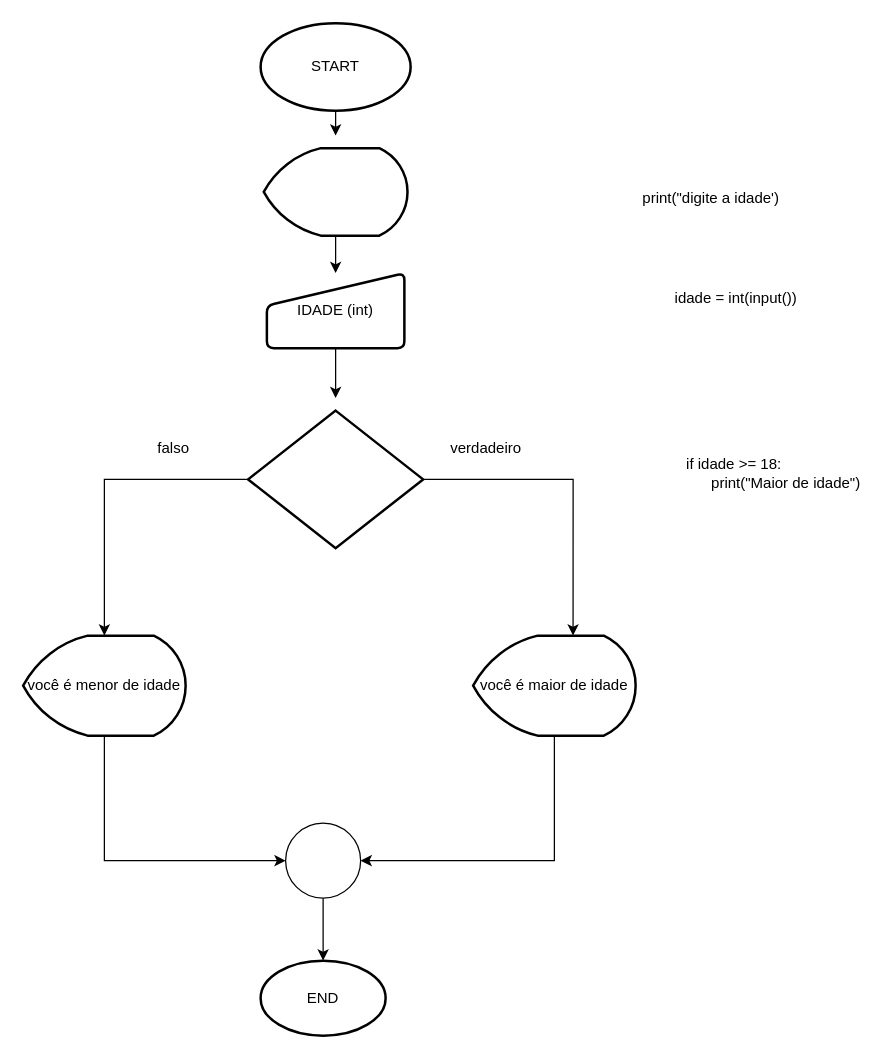
Some shapes in this 888 by 1058 pixel diagram are drawn without their labels. Here are the shapes that lost their labels. From the top down, the box of each, then its label:
(262, 146, 408, 236): digite sua idade
(246, 409, 424, 549): IDADE >= 18
